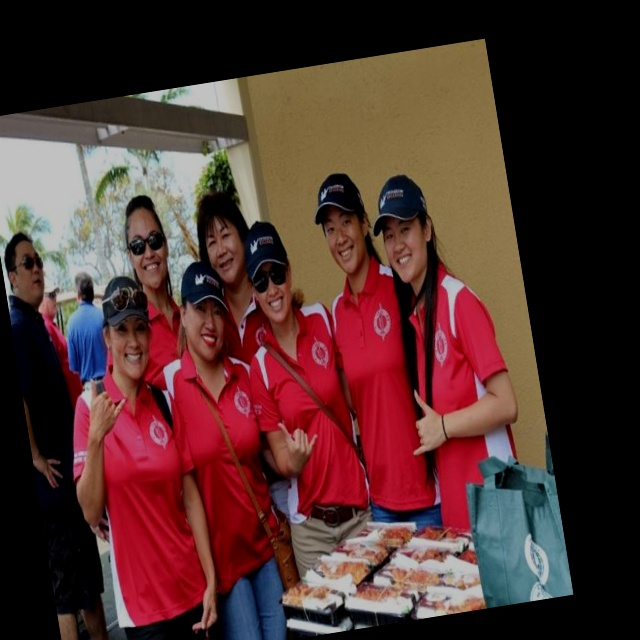Sin_Casco_Mascarrilla: (310, 170, 375, 273), (99, 277, 160, 384)
